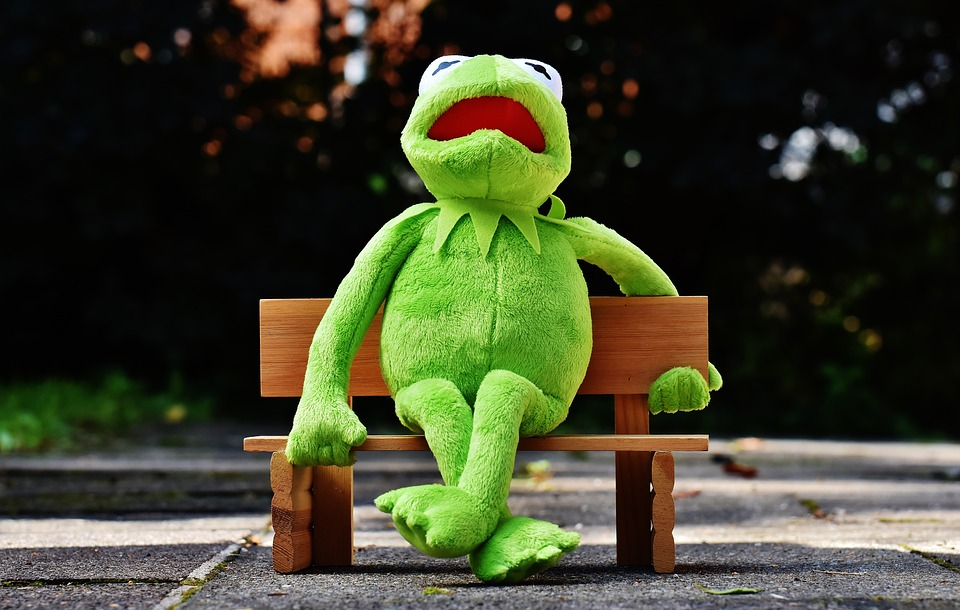kermit: (394, 49, 575, 214)
